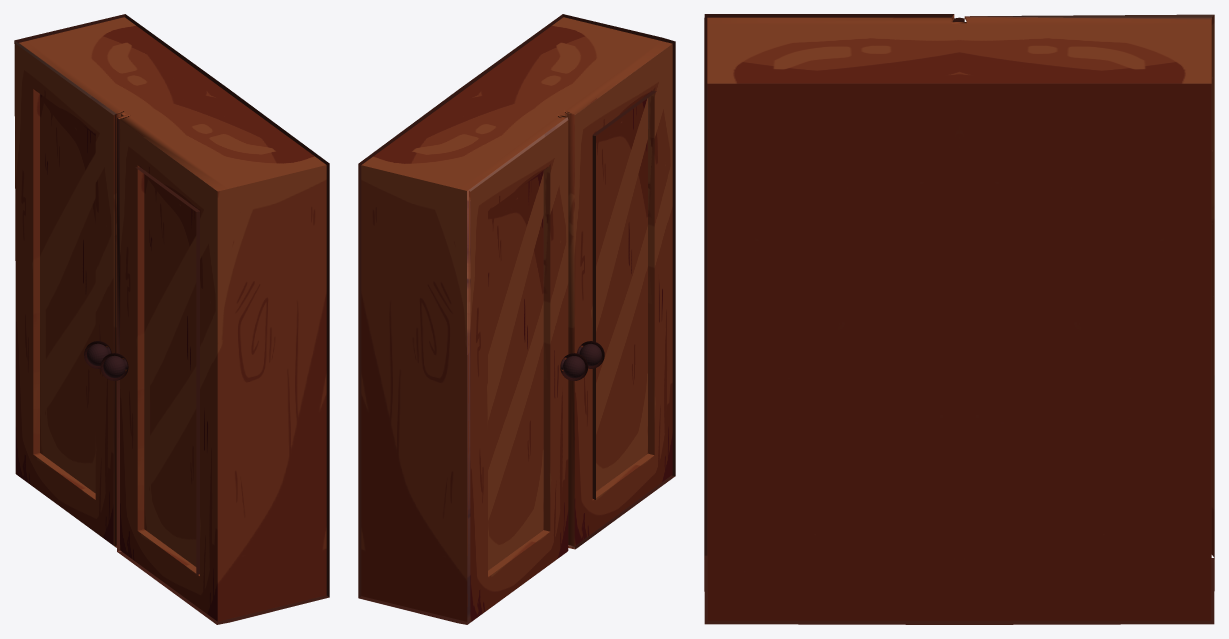
File: dolap.fbx
3 views of the same model, side by side, from view 1: azimuth 30°, elevation 25°; view 2: azimuth 150°, elevation 25°; view 3: azimuth 270°, elevation 25° (orthographic). The views are drawn at different scales.
Parts seen in each view (by area): view 1: Plane.002, Sphere, Sphere.001; view 2: Plane.002, Sphere.001, Sphere; view 3: Plane.002.
Boxes of the visible parts, x1,y1,x2,y2 form: Plane.002: [14, 14, 329, 624]; Sphere: [100, 353, 128, 380]; Sphere.001: [84, 341, 111, 368]; Plane.002: [358, 14, 675, 624]; Sphere.001: [560, 353, 588, 380]; Sphere: [577, 341, 604, 368]; Plane.002: [704, 14, 1214, 624].
Size of the model in its own units: 1.68 by 5.25 by 4.45.
